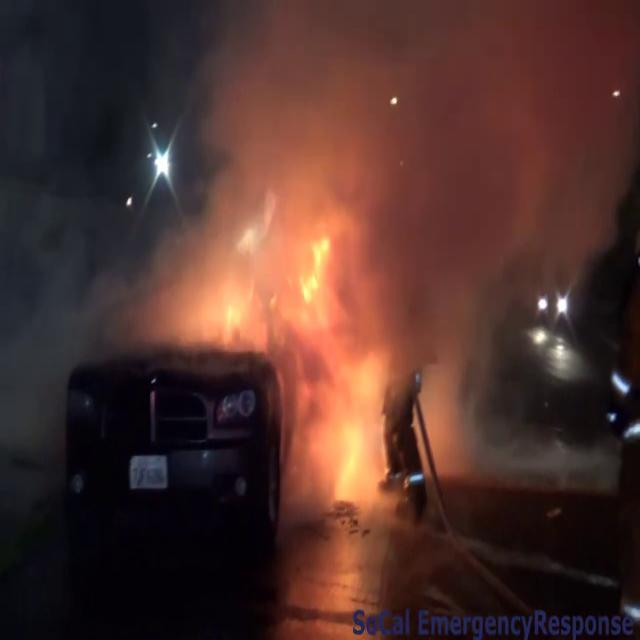Fire: (198, 194, 396, 512)
